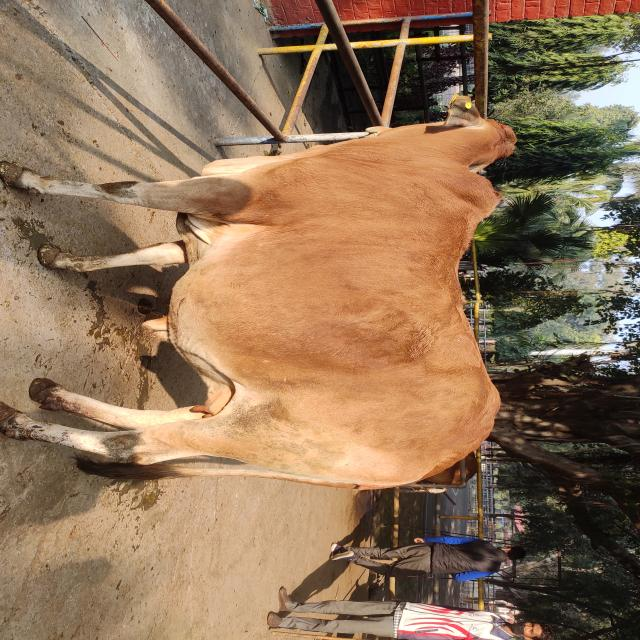cow: (1, 92, 517, 490)
hump: (328, 536, 512, 580), (468, 166, 503, 228)
